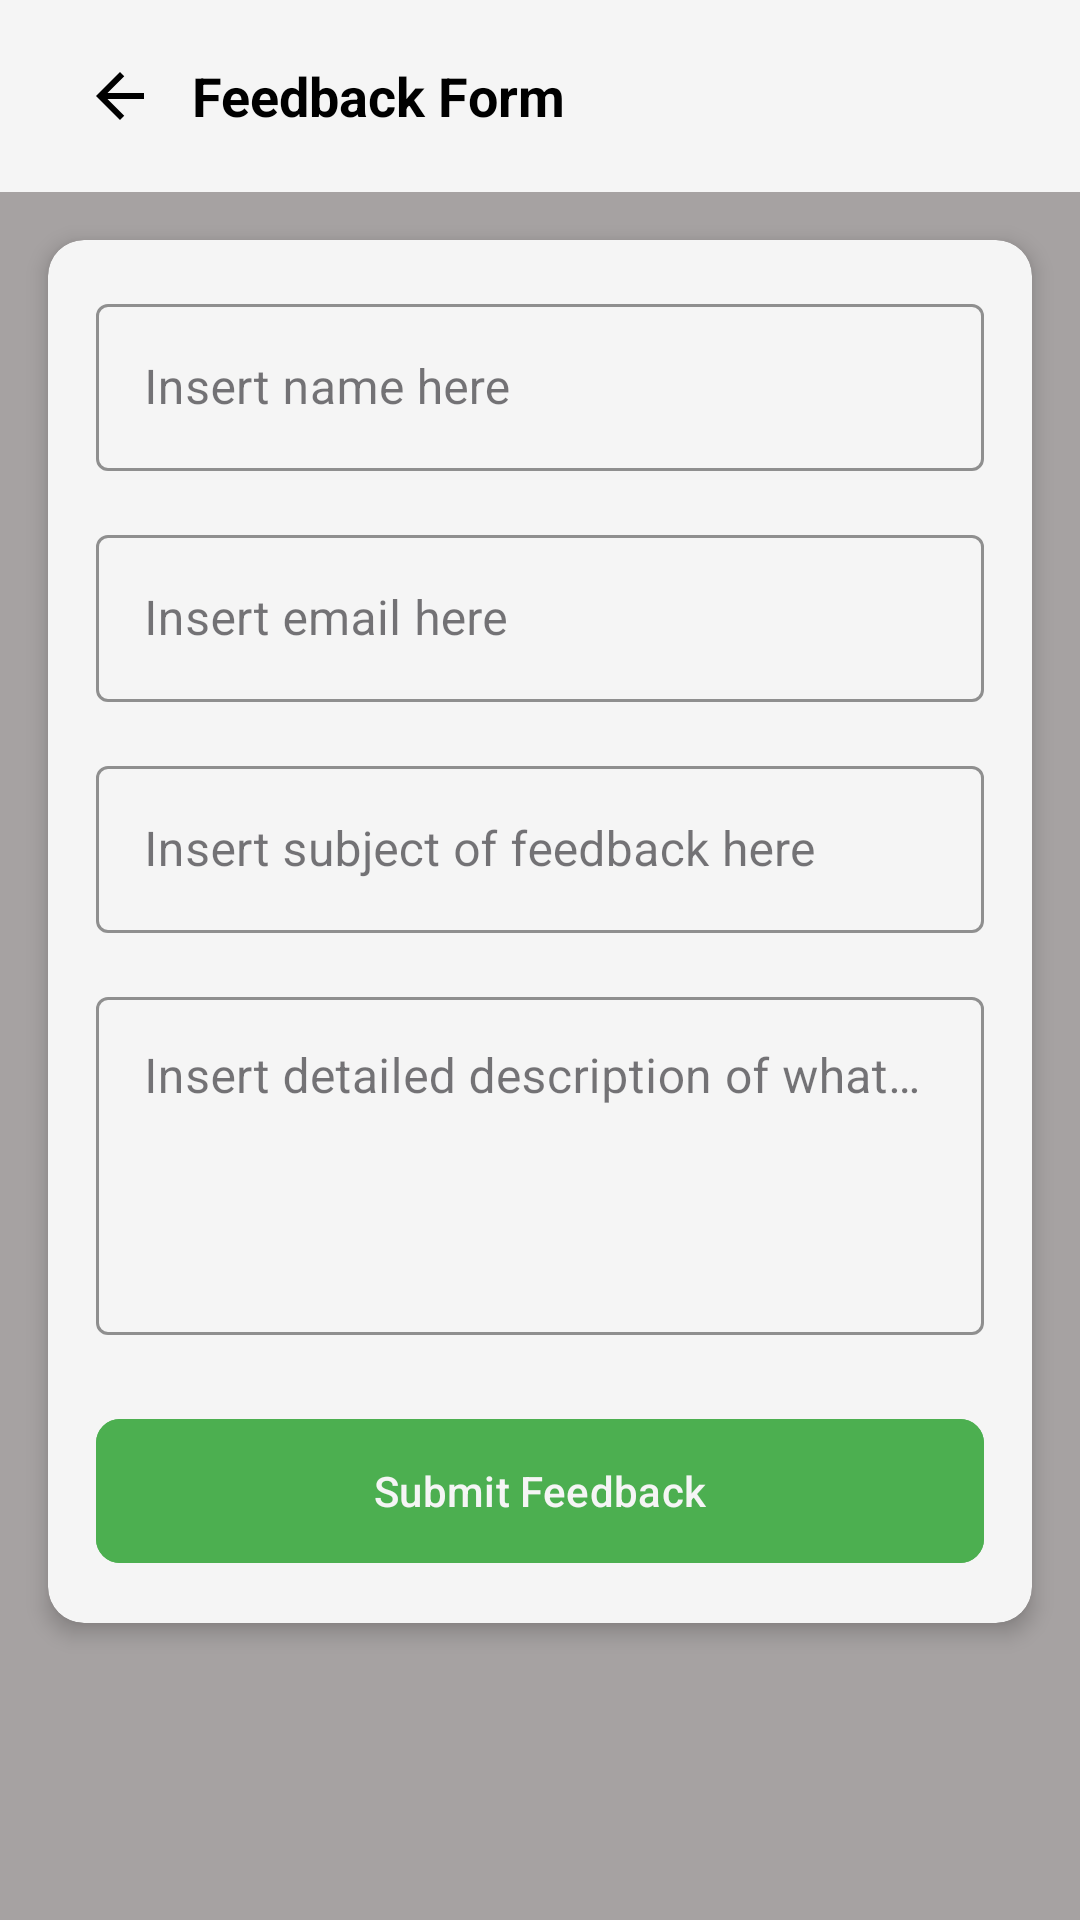

Where icons sit on this 1080x1920 app screen, as bbox(x1, y1, x2, y2):
Back button: bbox(96, 72, 144, 120)
